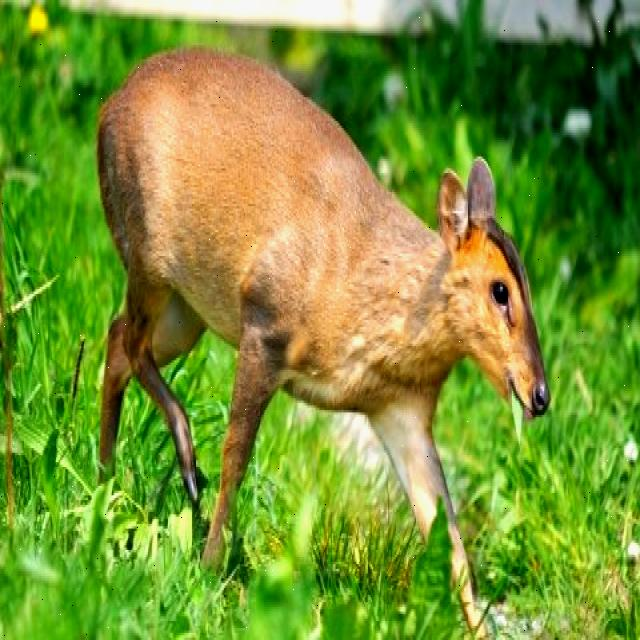deer: (414, 150, 566, 443)
